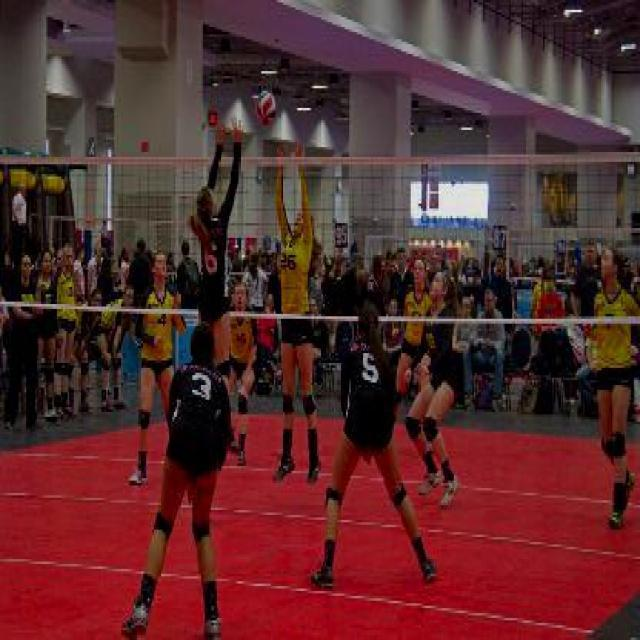volleyball: (256, 90, 276, 126)
